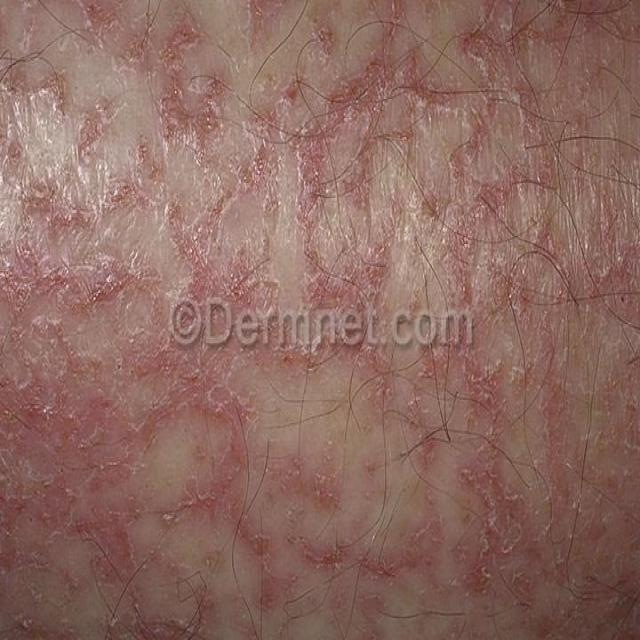Eczema: (26, 58, 640, 624)
